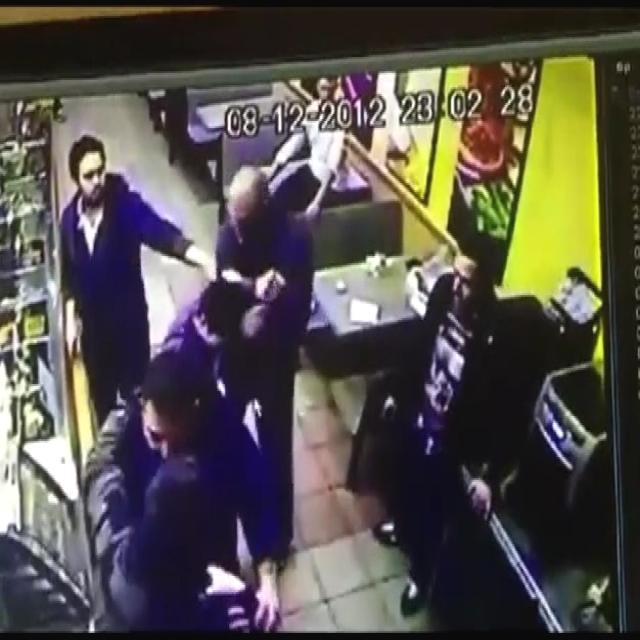fight: (54, 297, 300, 623)
